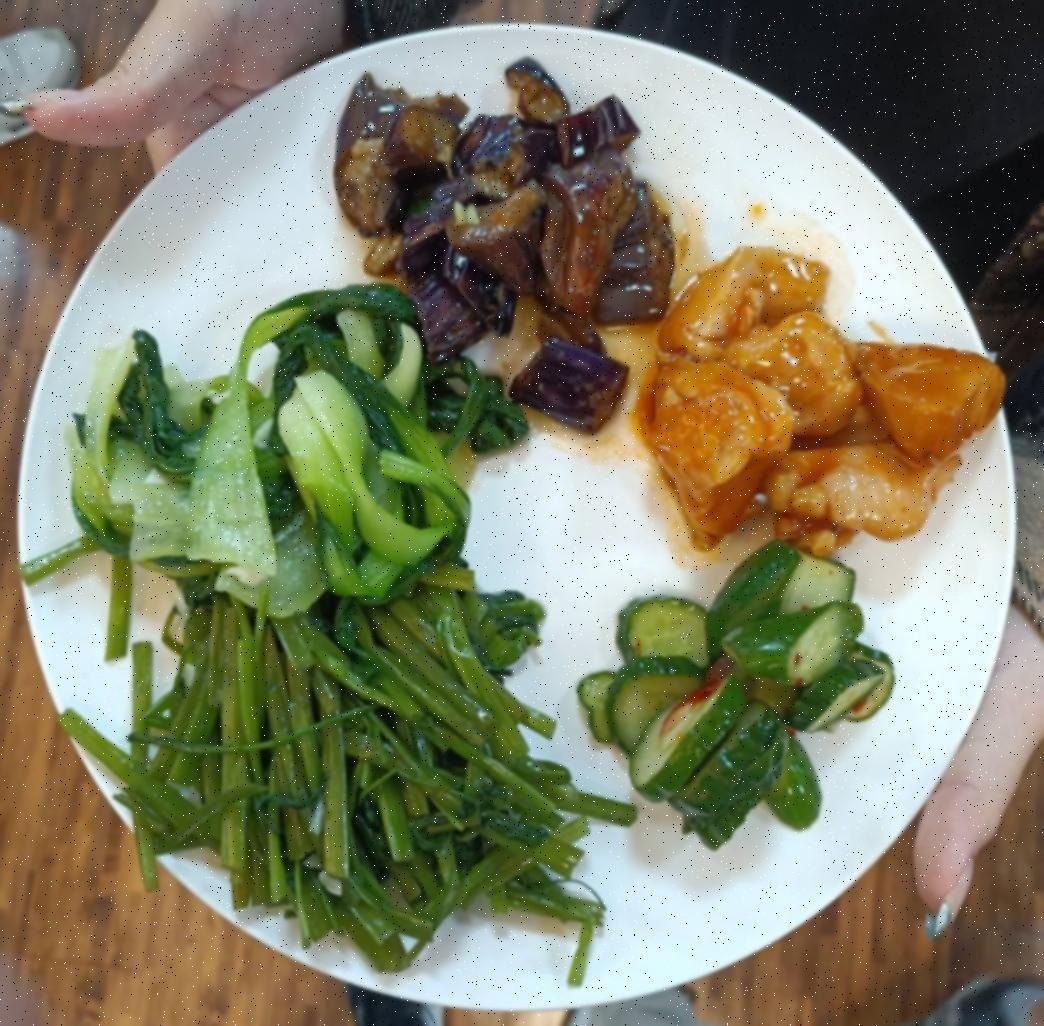plate: (23, 20, 1034, 1026)
side dish: (138, 556, 598, 953), (48, 299, 518, 604), (354, 63, 674, 380), (580, 542, 888, 833)
spicy chicken: (638, 252, 980, 568)
